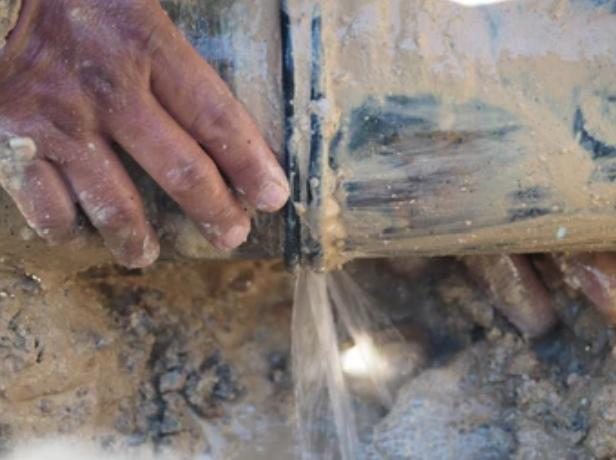pipe burst: (286, 260, 440, 460)
